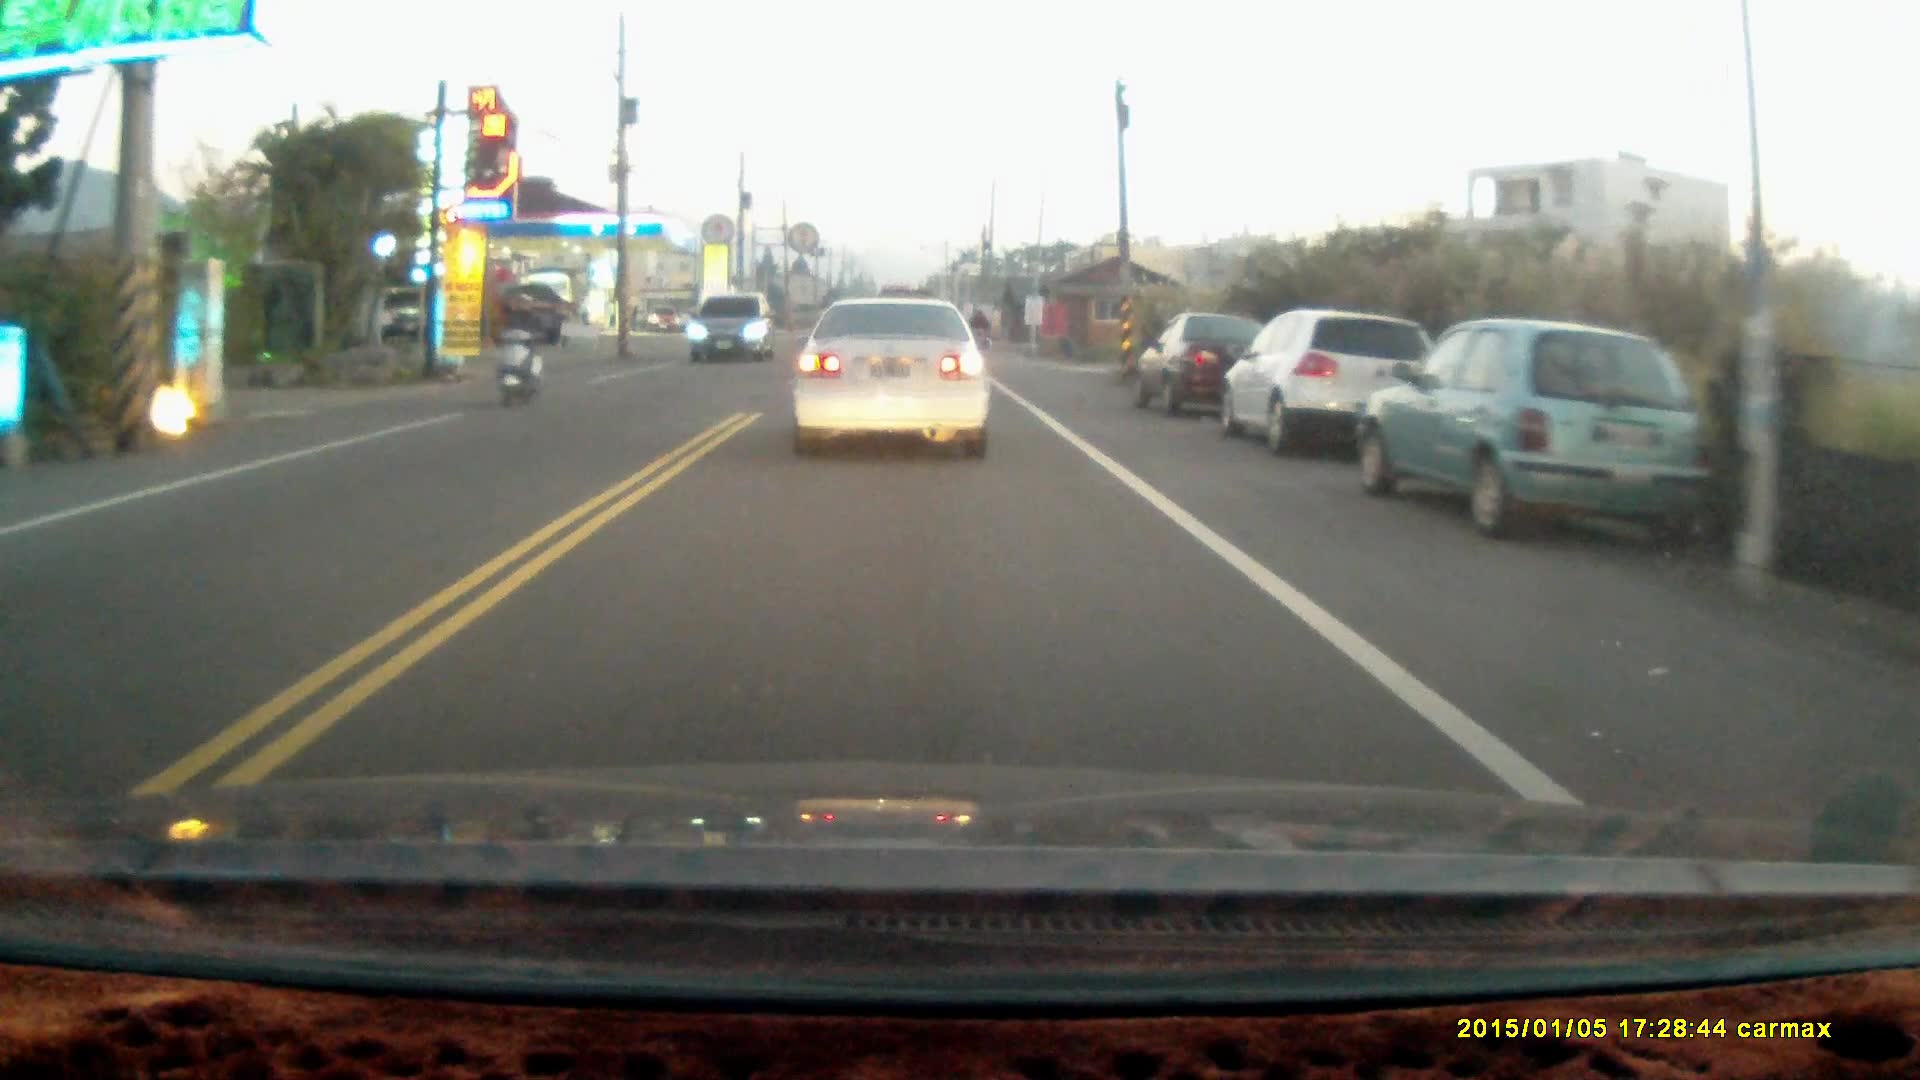rider: (492, 289, 543, 405)
vehicle: (1354, 318, 1722, 540), (791, 290, 995, 458), (1225, 310, 1434, 463), (1138, 312, 1274, 418), (688, 289, 778, 359)
